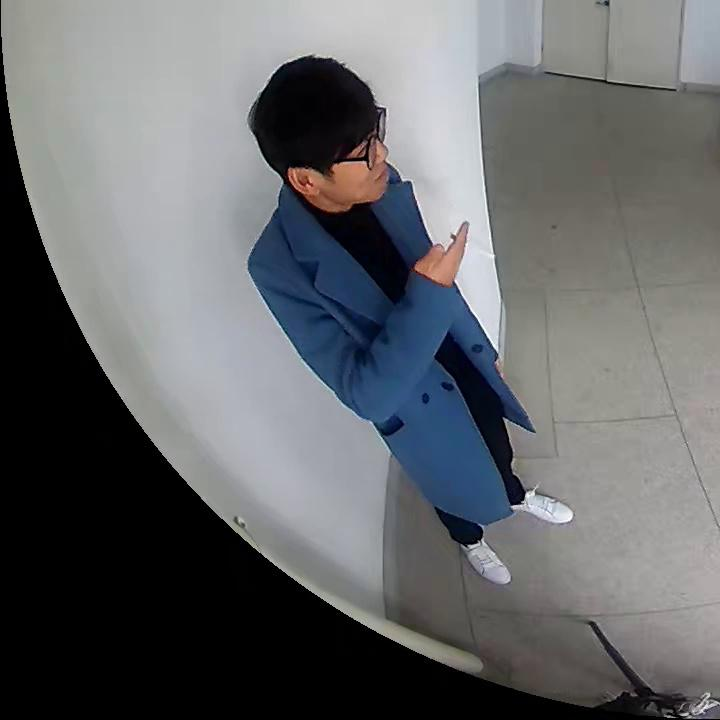handsmoke: (423, 222, 498, 279)
mouthwithoutsmoke: (249, 55, 390, 205)
